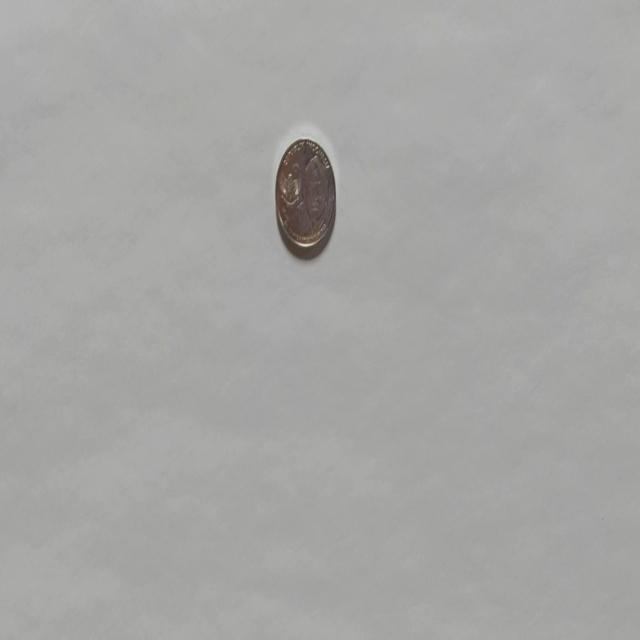dua ratus rupiah: (274, 135, 336, 255)
